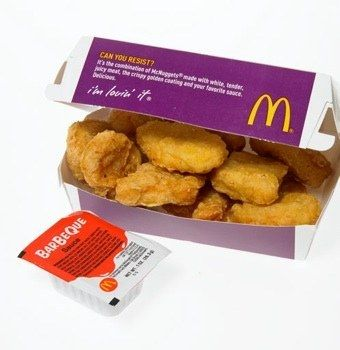mcdonalds: (244, 92, 294, 133)
